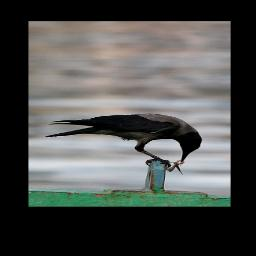Crow: (45, 112, 203, 167)
